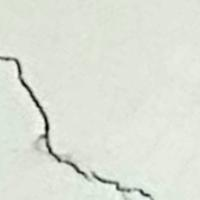crack: (0, 53, 154, 199)
